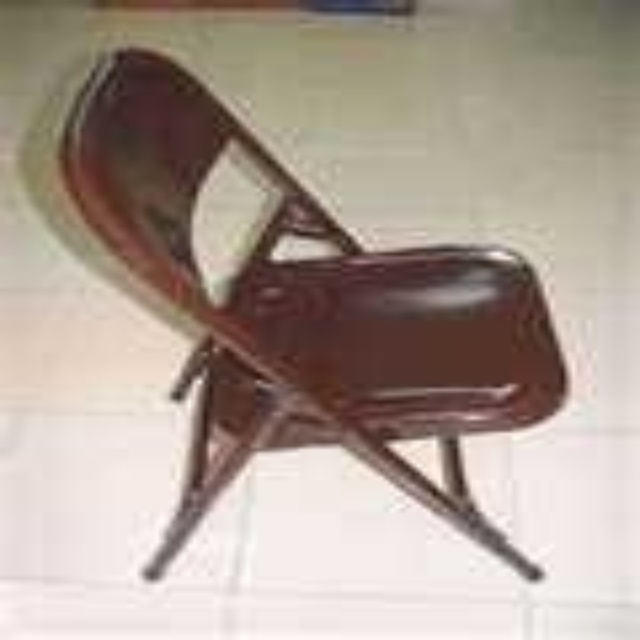obstacle: (59, 48, 560, 576), (299, 0, 411, 12)
